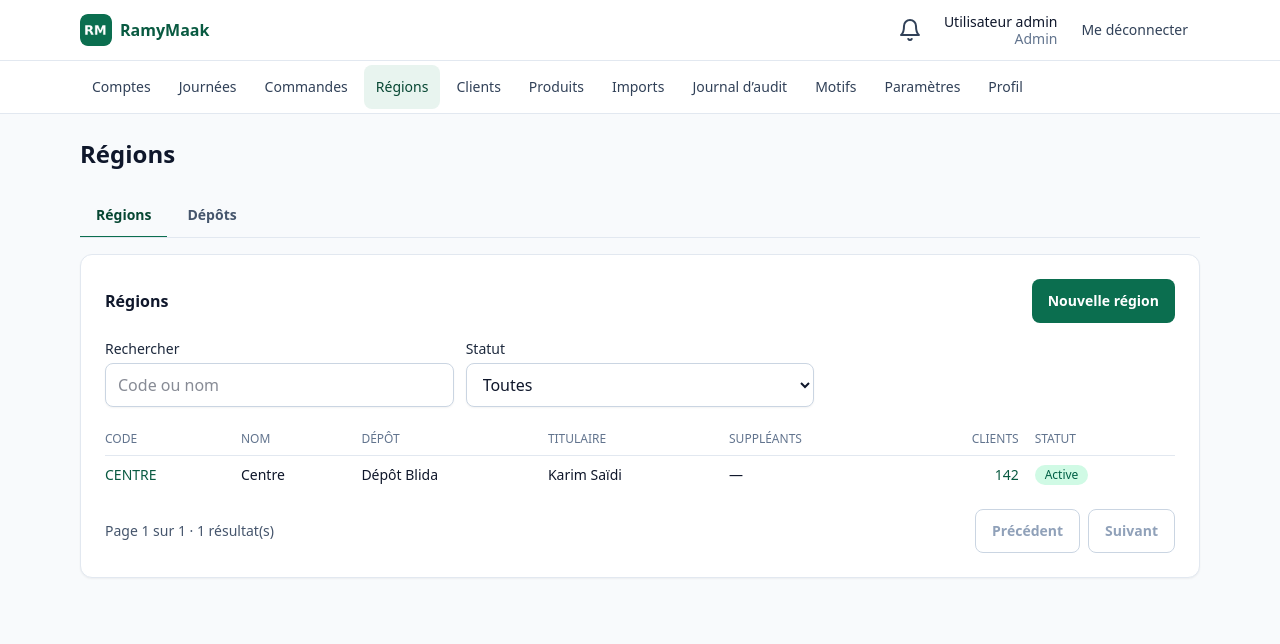
Test case: back-office — regions list › creates a region and opens its detail page
Click the button "Nouvelle région" at (1103, 301), box [1032,279,1175,323]
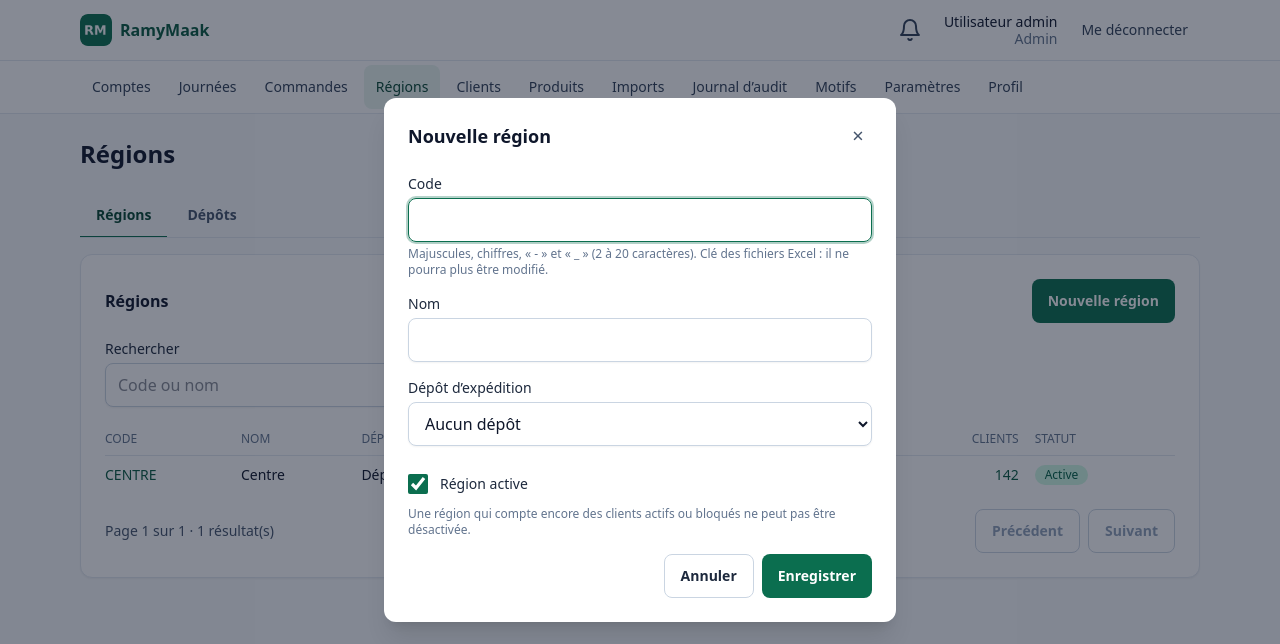
Type "est" into the field labelled "Code" at (640, 220), box [408,198,872,242]
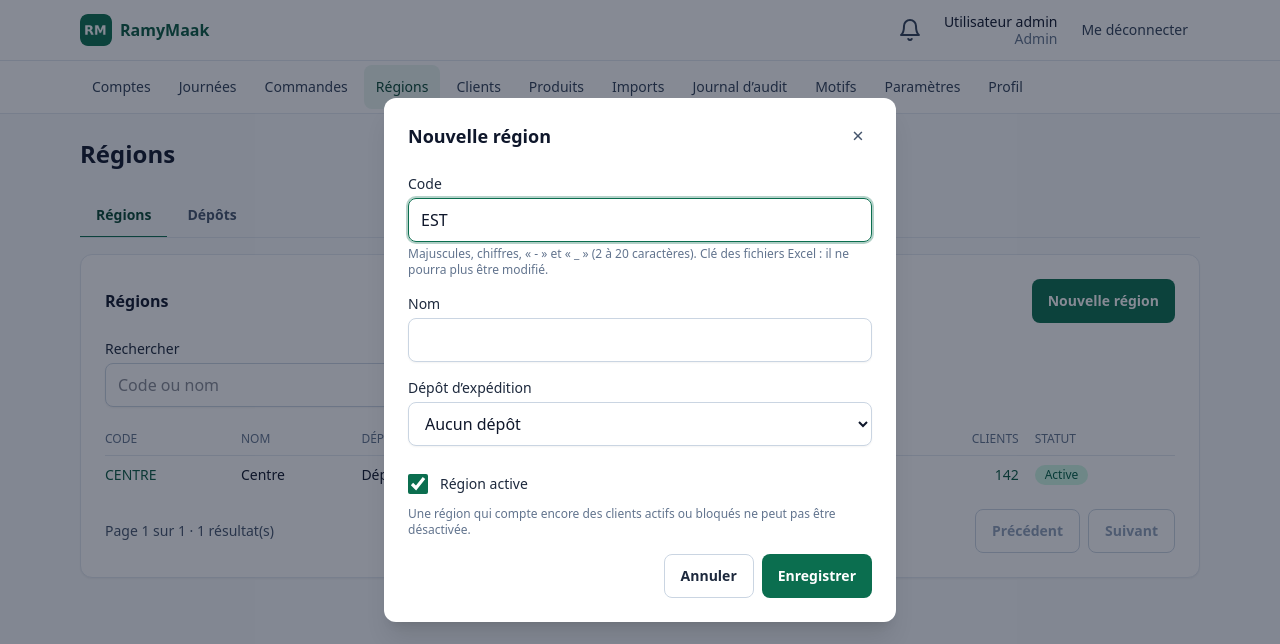
Type "Est" into the field labelled "Nom" at (640, 340), box [408,318,872,362]
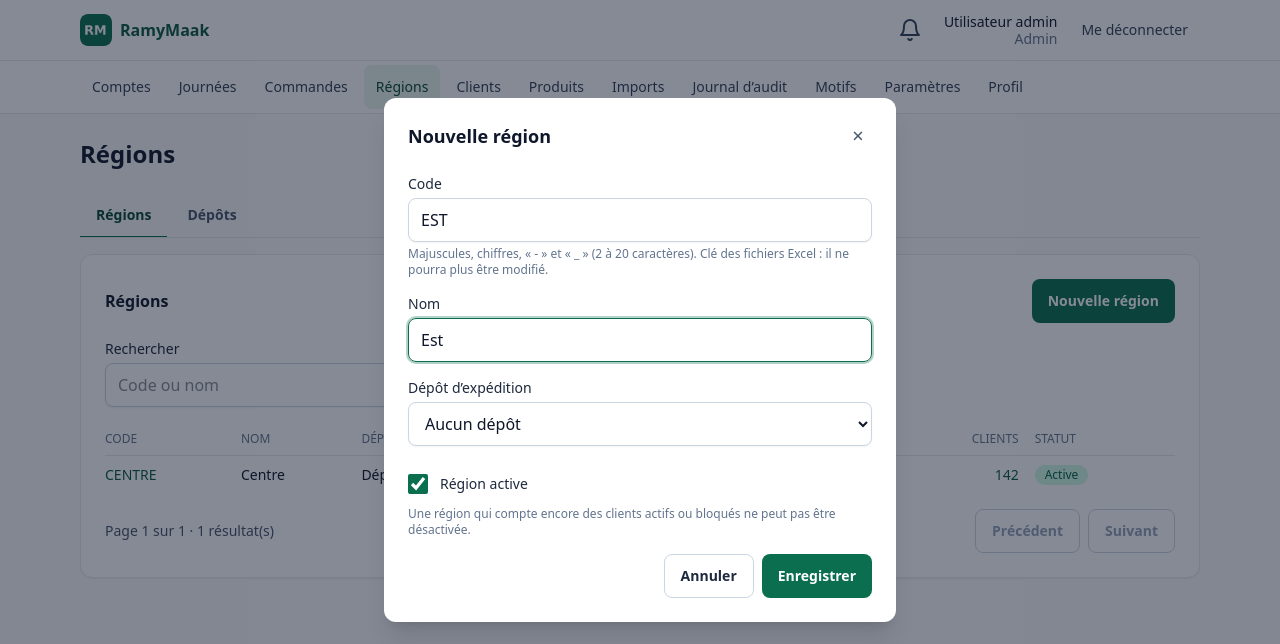
Select "BLIDA — Dépôt Blida" in the dropdown labelled "Dépôt d’expédition" at (640, 424), box [408,402,872,446]
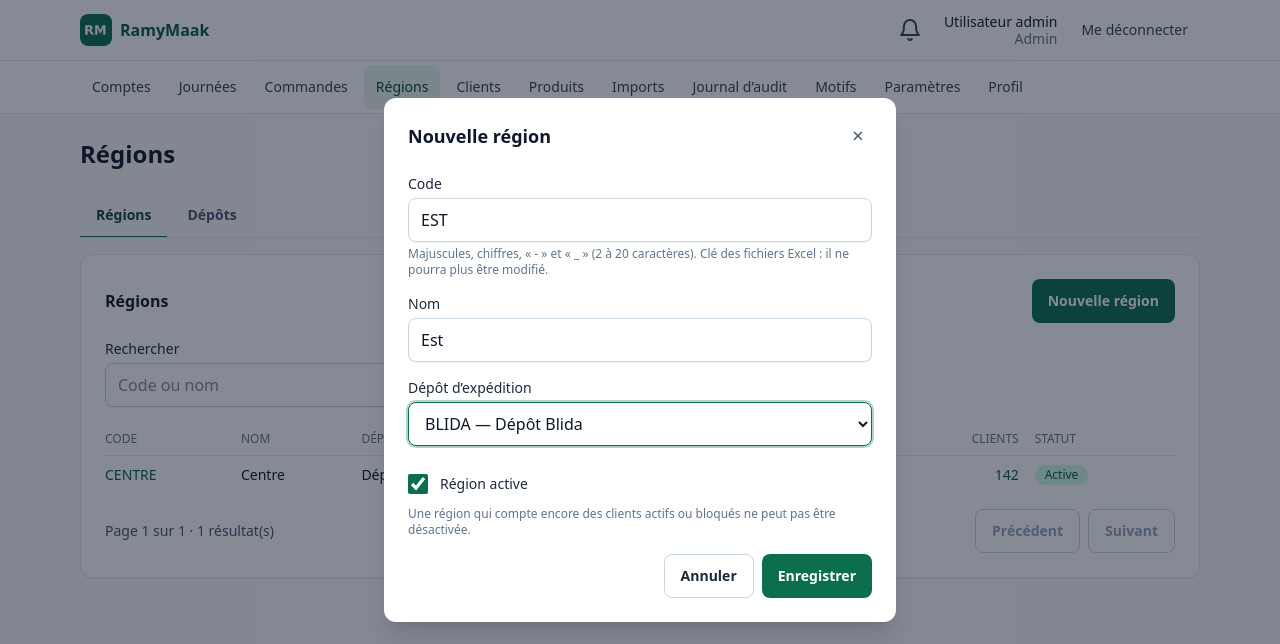
Click the button "Enregistrer" at (817, 576), box [762,554,872,598]
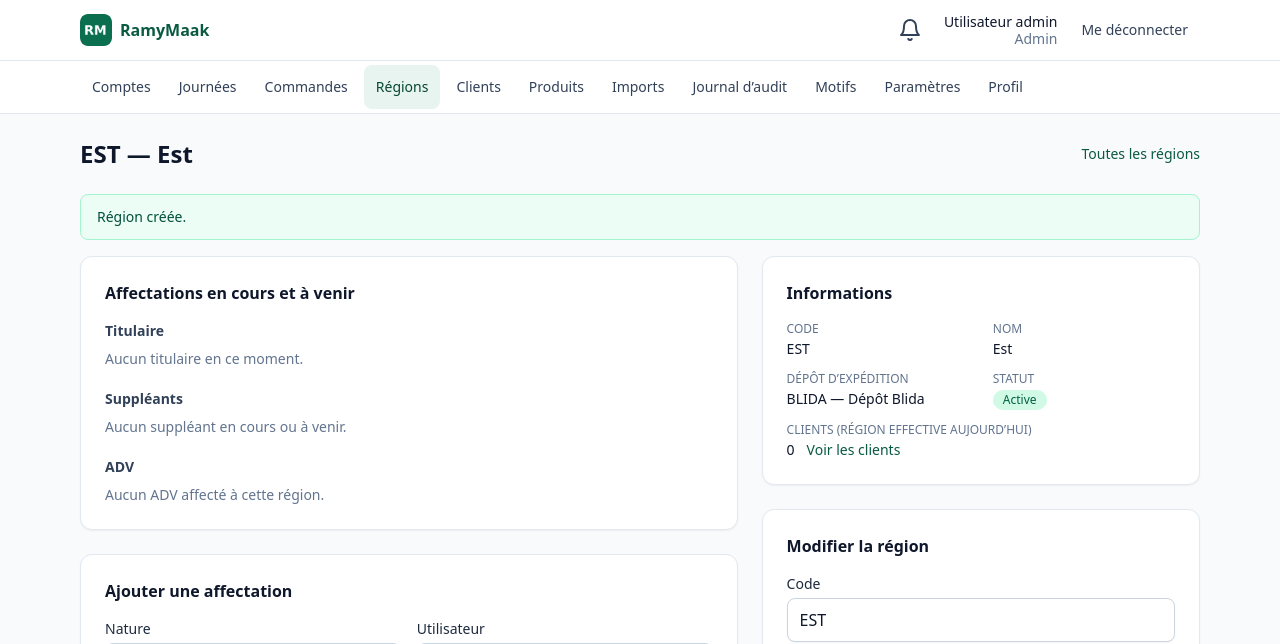
Expected: the text "Région créée." is shown, [80,194,1200,240]
